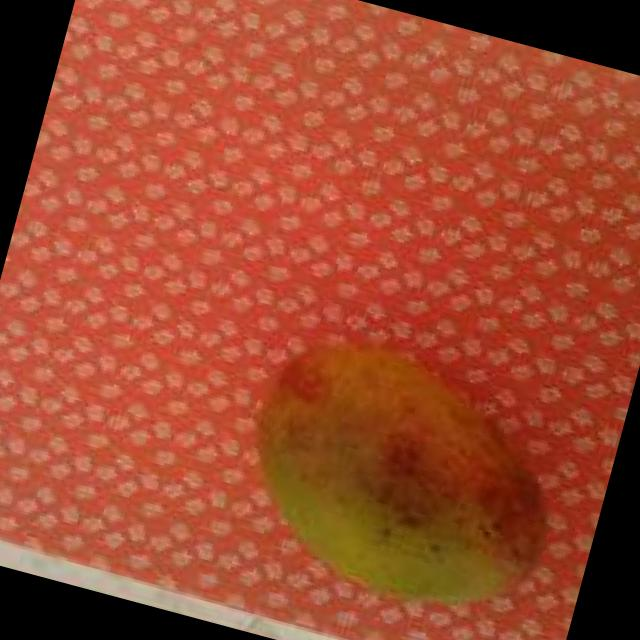mango: (216, 321, 579, 634)
